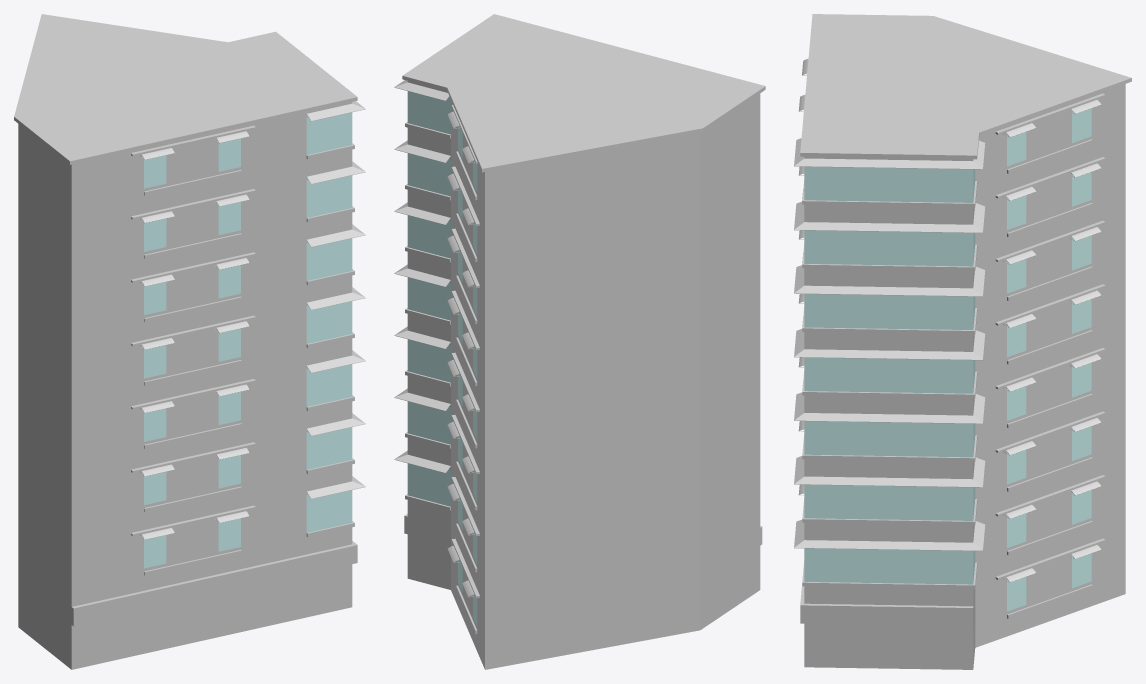
Rendered from 住宅3 英文版.fbx.
3 renders of one model, left to right at view 1: azimuth 30°, elevation 25°; view 2: azimuth 150°, elevation 25°; view 3: azimuth 270°, elevation 25°, orthographic. The views are drawn at different scales.
Visible parts, largest first — view 1: 物件_1, 物件_287, 物件_273, 物件_274, 物件_275, 物件_277, 物件_278, 物件_286, 物件_276, 物件_22, 物件_20, 物件_25 (+12 smaller); view 2: 物件_1, 物件_276, 物件_275, 物件_278, 物件_274, 物件_277, 物件_273, 物件_286; view 3: 物件_1, 物件_275, 物件_278, 物件_286, 物件_274, 物件_277, 物件_273, 物件_276, 物件_287, 物件_280, 物件_285, 物件_282 (+20 smaller).
Boxes of the visible parts, bbox=[...] form: 物件_1: bbox=[14, 14, 357, 669]; 物件_287: bbox=[71, 541, 357, 626]; 物件_273: bbox=[306, 427, 352, 469]; 物件_274: bbox=[306, 364, 352, 406]; 物件_275: bbox=[306, 301, 352, 343]; 物件_277: bbox=[306, 112, 352, 154]; 物件_278: bbox=[306, 175, 352, 217]; 物件_286: bbox=[306, 490, 352, 532]; 物件_276: bbox=[306, 238, 352, 280]; 物件_22: bbox=[218, 455, 240, 488]; 物件_20: bbox=[218, 518, 240, 551]; 物件_25: bbox=[144, 408, 166, 441]; 物件_1: bbox=[402, 14, 765, 669]; 物件_276: bbox=[407, 215, 450, 258]; 物件_275: bbox=[407, 277, 450, 320]; 物件_278: bbox=[407, 153, 450, 196]; 物件_274: bbox=[407, 339, 450, 382]; 物件_277: bbox=[407, 91, 450, 134]; 物件_273: bbox=[407, 401, 450, 444]; 物件_286: bbox=[407, 463, 450, 506]; 物件_1: bbox=[800, 14, 1131, 669]; 物件_275: bbox=[804, 357, 975, 393]; 物件_278: bbox=[804, 230, 975, 266]; 物件_286: bbox=[804, 548, 975, 584]; 物件_274: bbox=[804, 421, 975, 457]; 物件_277: bbox=[804, 166, 975, 202]; 物件_273: bbox=[804, 484, 975, 520]; 物件_276: bbox=[804, 294, 975, 329]; 物件_287: bbox=[800, 561, 973, 626]; 物件_280: bbox=[794, 201, 985, 232]; 物件_285: bbox=[794, 519, 985, 551]; 物件_282: bbox=[794, 329, 985, 360].
Size of the model in its own units: 17.03 by 16.86 by 28.4.
